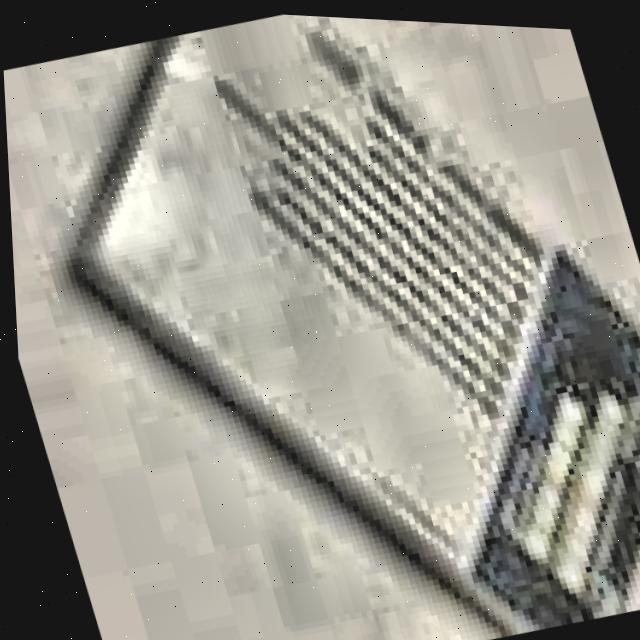paper: (73, 11, 640, 630)
